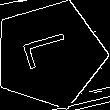L_E: (20, 33, 79, 77)
